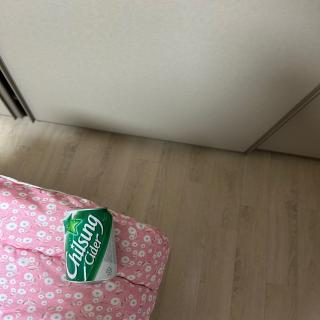cocacola: (62, 207, 121, 286)
